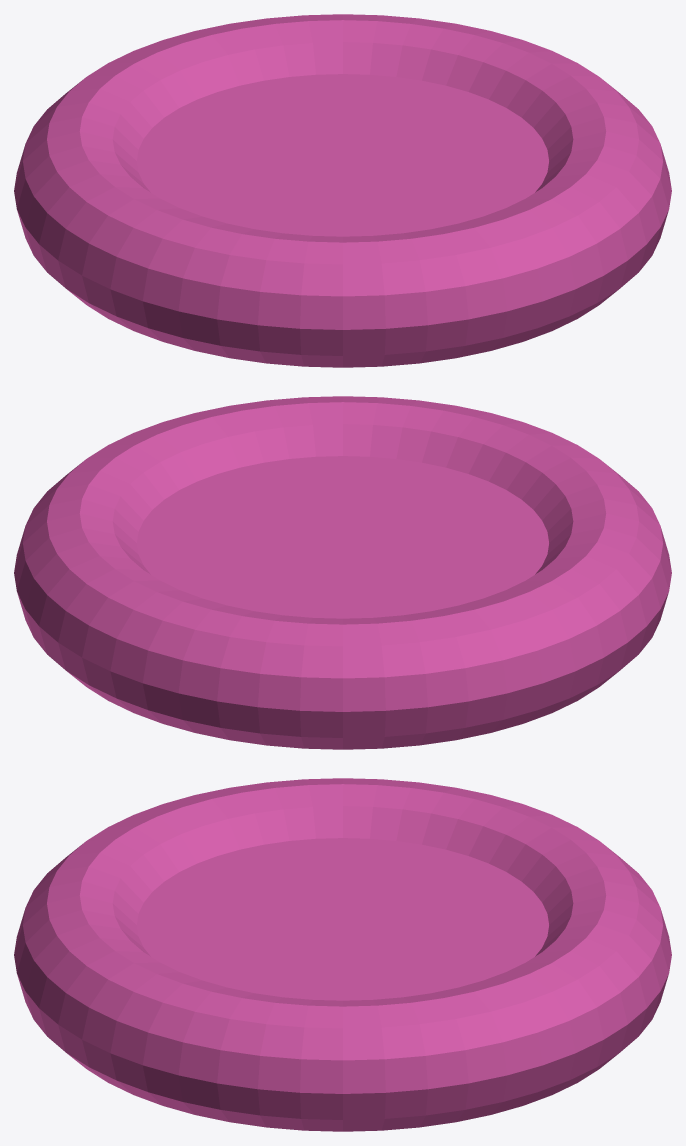
The model's file is wheel_3_mesh.dae.
3 renders of one model, top to bottom at view 1: azimuth 30°, elevation 25°; view 2: azimuth 150°, elevation 25°; view 3: azimuth 270°, elevation 25°, orthographic.
Parts seen in each view (by area): view 1: wheel_3; view 2: wheel_3; view 3: wheel_3.
Boxes of the visible parts, <box> form: wheel_3: <box>14,14,671,367</box>; wheel_3: <box>14,396,671,749</box>; wheel_3: <box>14,778,671,1131</box>.
Size of the model in its own units: 2.5 by 2.5 by 0.5.
